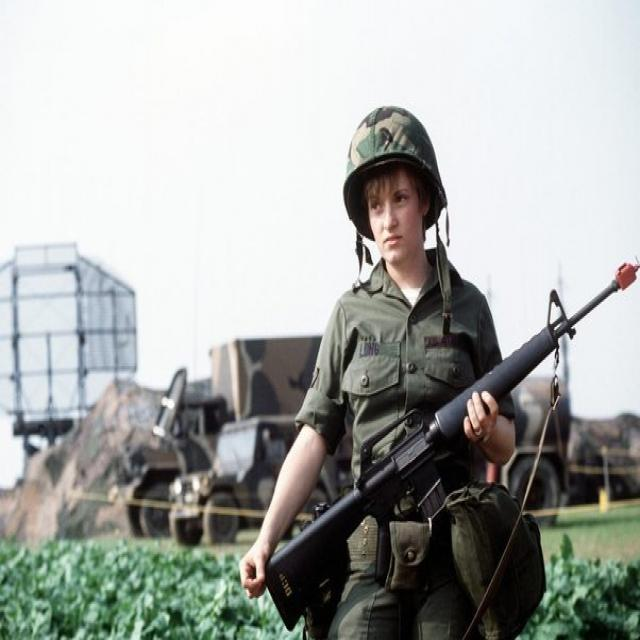m16: (343, 269, 624, 610)
